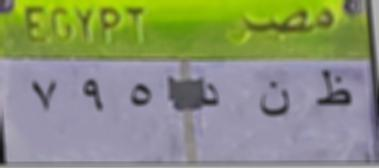5: (124, 78, 164, 112)
7: (26, 70, 64, 122)
9: (80, 74, 111, 119)
Thaa: (304, 65, 359, 120)
daal: (198, 78, 230, 118)
noon: (252, 74, 293, 130)
